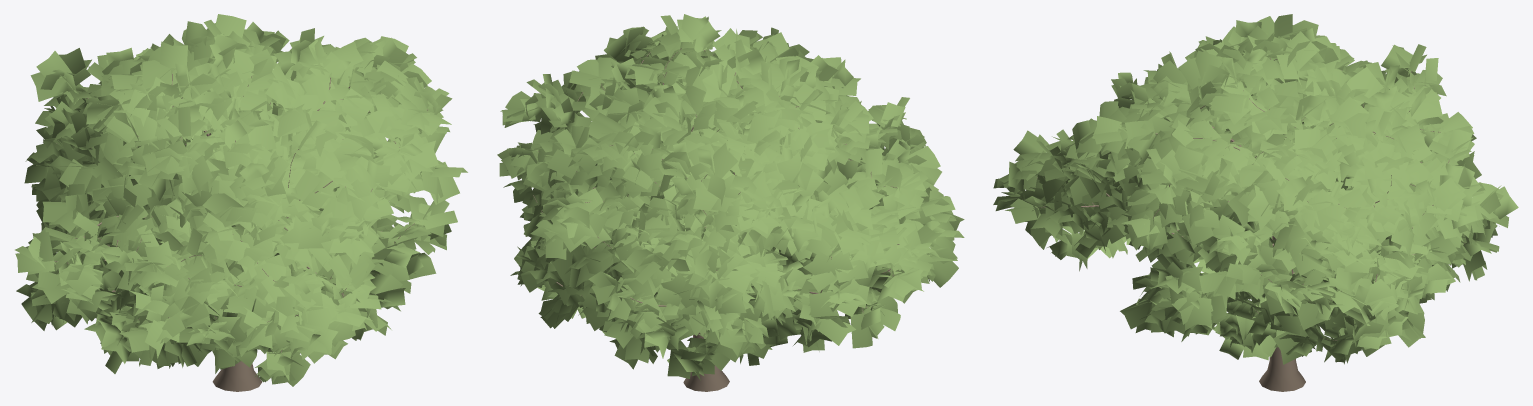
File: Oak_2_lod0.glb
3 views of the same model, side by side, from view 1: azimuth 30°, elevation 25°; view 2: azimuth 150°, elevation 25°; view 3: azimuth 270°, elevation 25° (orthographic). The views are drawn at different scales.
Parts seen in each view (by area): view 1: Oak_2_lod0; view 2: Oak_2_lod0; view 3: Oak_2_lod0.
Boxes of the visible parts, x1=… form: Oak_2_lod0: x1=15, y1=14, x2=467, y2=391; Oak_2_lod0: x1=497, y1=14, x2=964, y2=391; Oak_2_lod0: x1=993, y1=14, x2=1518, y2=391.
Size of the model in its own units: 19.91 by 15.83 by 22.04.
